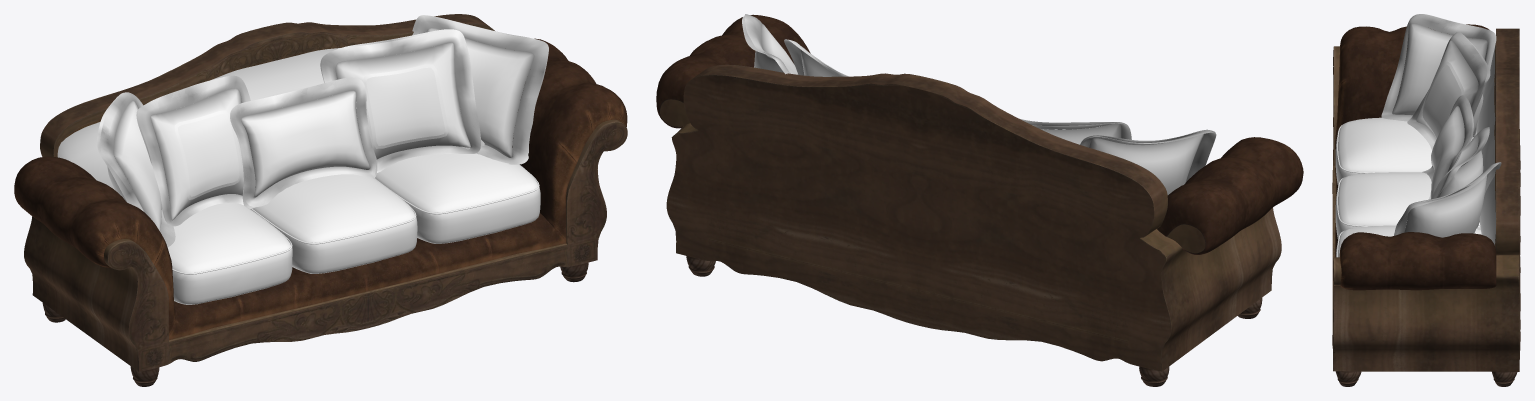
The model's file is SheenWoodLeatherSofa.fbx.
3 views of the same model, side by side, from view 1: azimuth 30°, elevation 25°; view 2: azimuth 150°, elevation 25°; view 3: azimuth 270°, elevation 25° (orthographic). The views are drawn at different scales.
Parts seen in each view (by area): view 1: Frame, Paisley, Fringe, Stripes, Brown, Frame_Fabric; view 2: Frame, Paisley, Fringe, Brown; view 3: Frame, Paisley, Fringe, Brown, Frame_Fabric, Stripes.
Boxes of the visible parts, <box> form: Frame: <box>14,14,627,386</box>; Paisley: <box>107,27,540,304</box>; Fringe: <box>97,15,548,247</box>; Stripes: <box>174,64,448,199</box>; Brown: <box>150,42,539,274</box>; Frame_Fabric: <box>57,48,339,189</box>; Frame: <box>656,14,1303,386</box>; Paisley: <box>754,23,1204,194</box>; Fringe: <box>742,14,1216,182</box>; Brown: <box>800,46,1121,144</box>; Frame: <box>1332,24,1520,386</box>; Paisley: <box>1335,23,1487,257</box>; Fringe: <box>1381,14,1501,235</box>; Brown: <box>1336,40,1483,257</box>; Frame_Fabric: <box>1477,46,1495,245</box>; Stripes: <box>1422,61,1472,198</box>.
Bounding box in the file's own units: 273 × 112 × 92.32.
